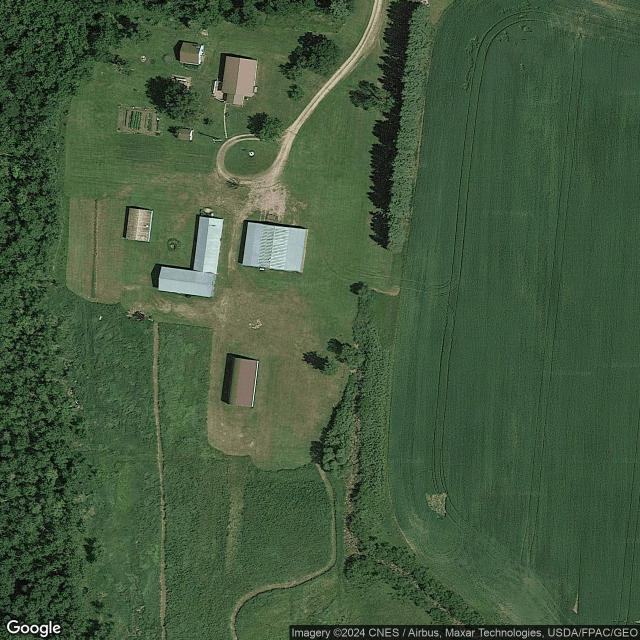Propane: (175, 77, 186, 82), (259, 268, 265, 271)
